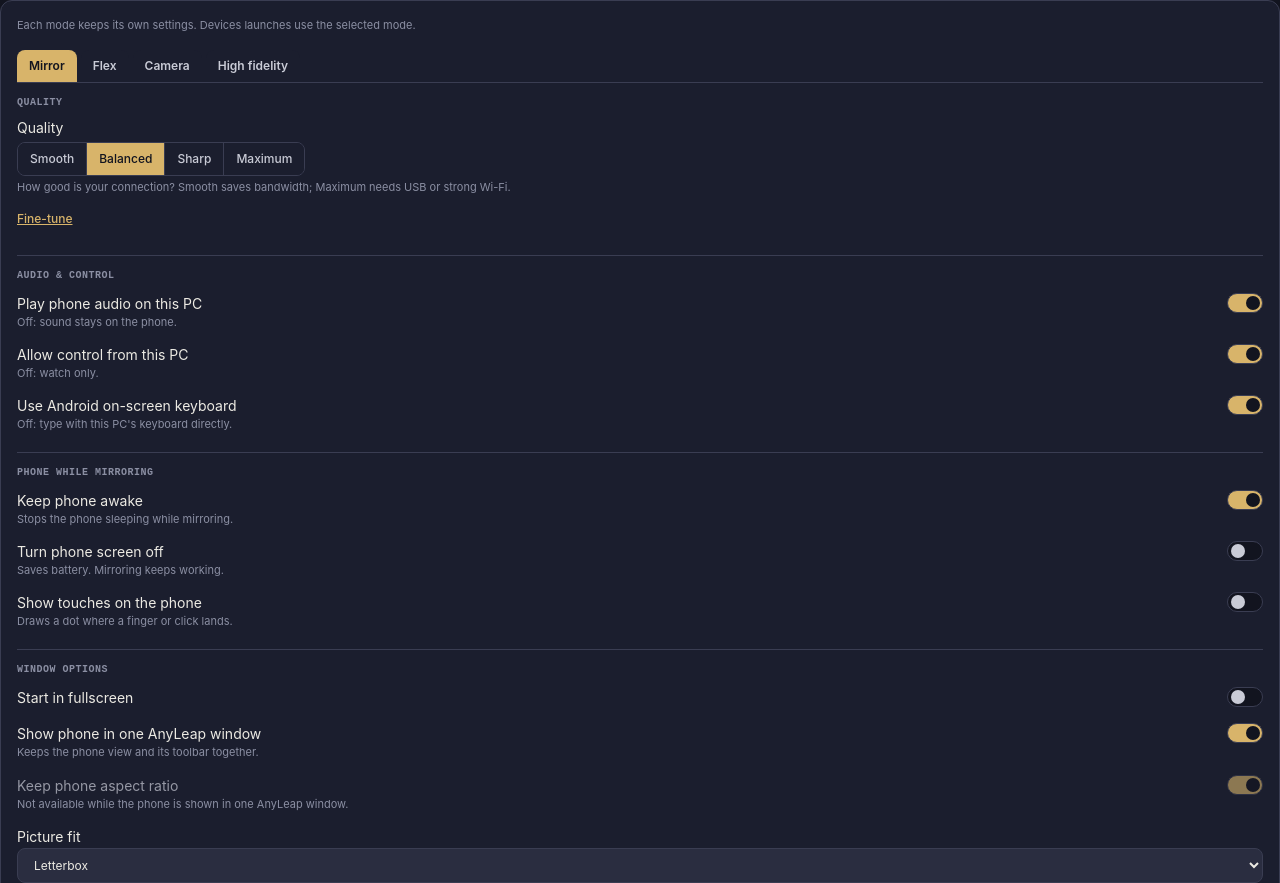
PhoneMirroringSection › quality segments write only the selected mode and Custom shows for odd values
Click the radio button labelled "Sharp": (194, 158) [164,142,223,174]
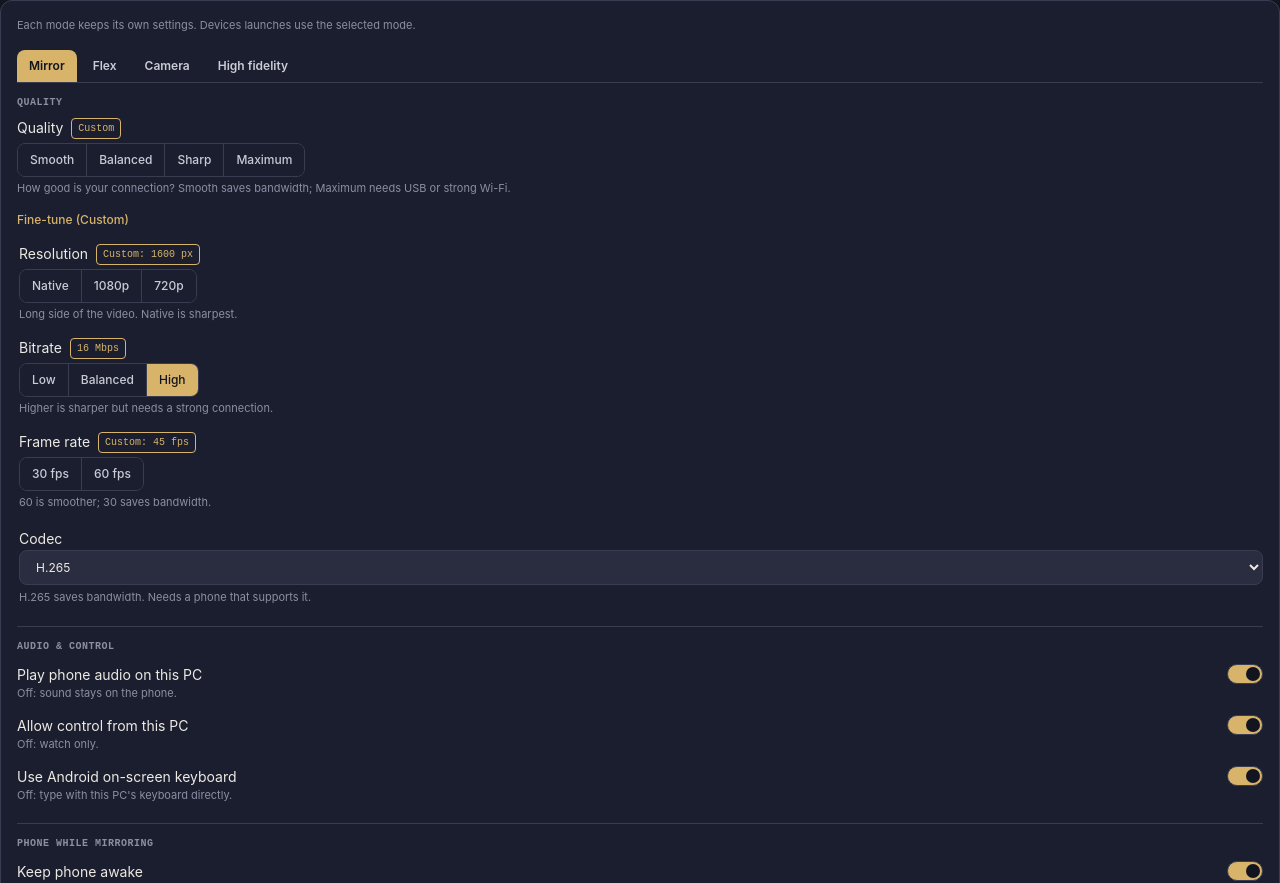
Check: the text "Custom" is shown, box [71,118,121,138]
